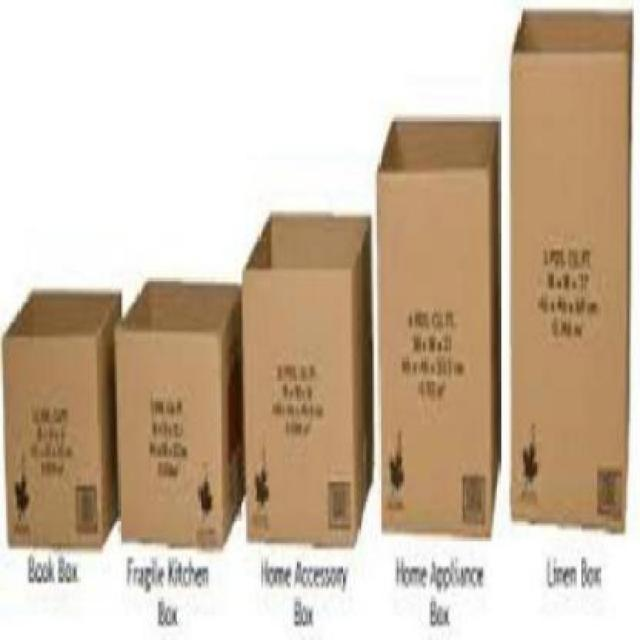box: (500, 4, 638, 534), (368, 110, 504, 538), (238, 208, 374, 550), (111, 278, 240, 552), (2, 288, 122, 554)
